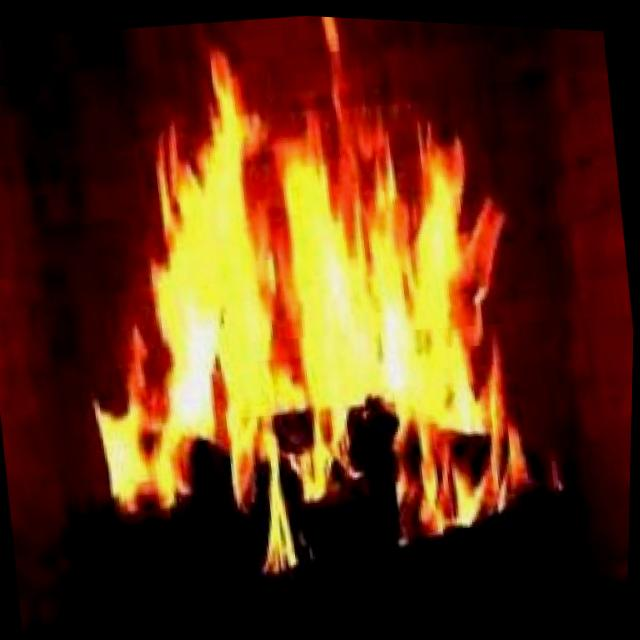helmet: (48, 2, 576, 607)
